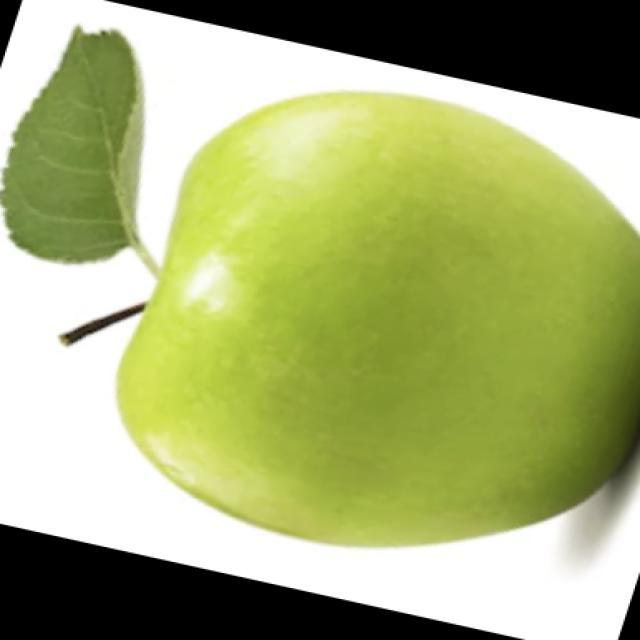Apple: (108, 88, 639, 548)
